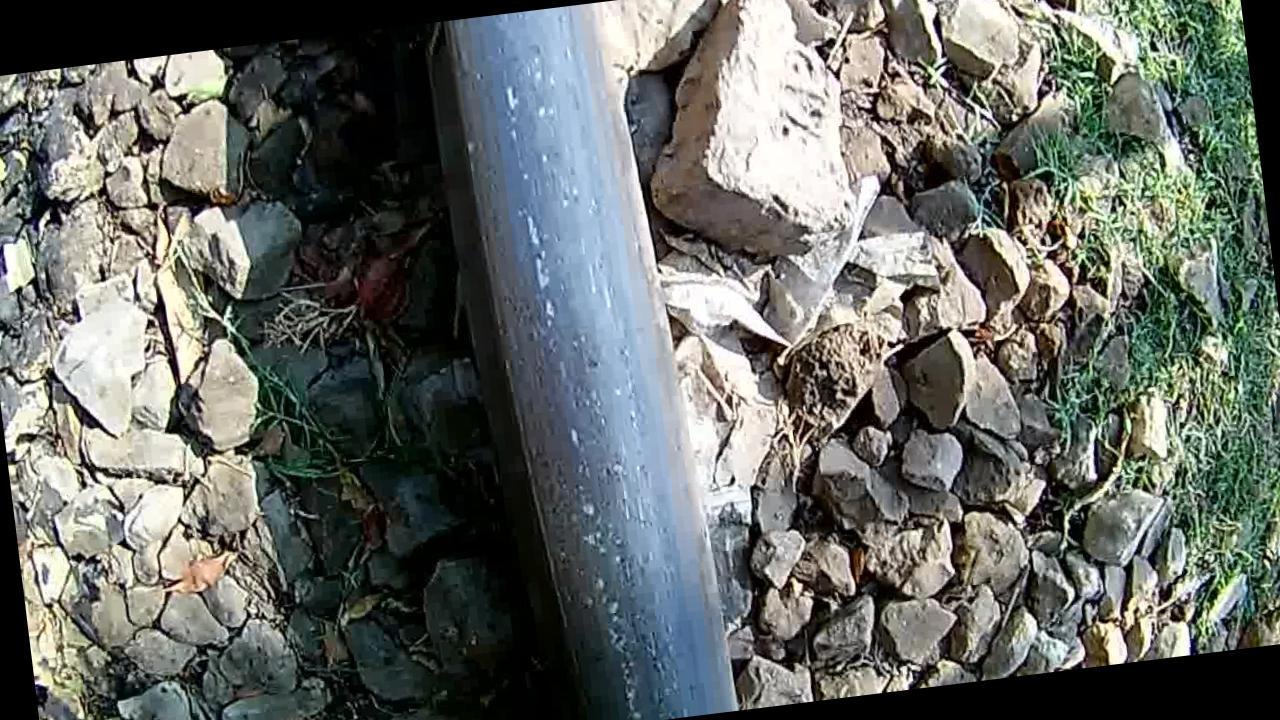clip_missing: (449, 5, 715, 720)
